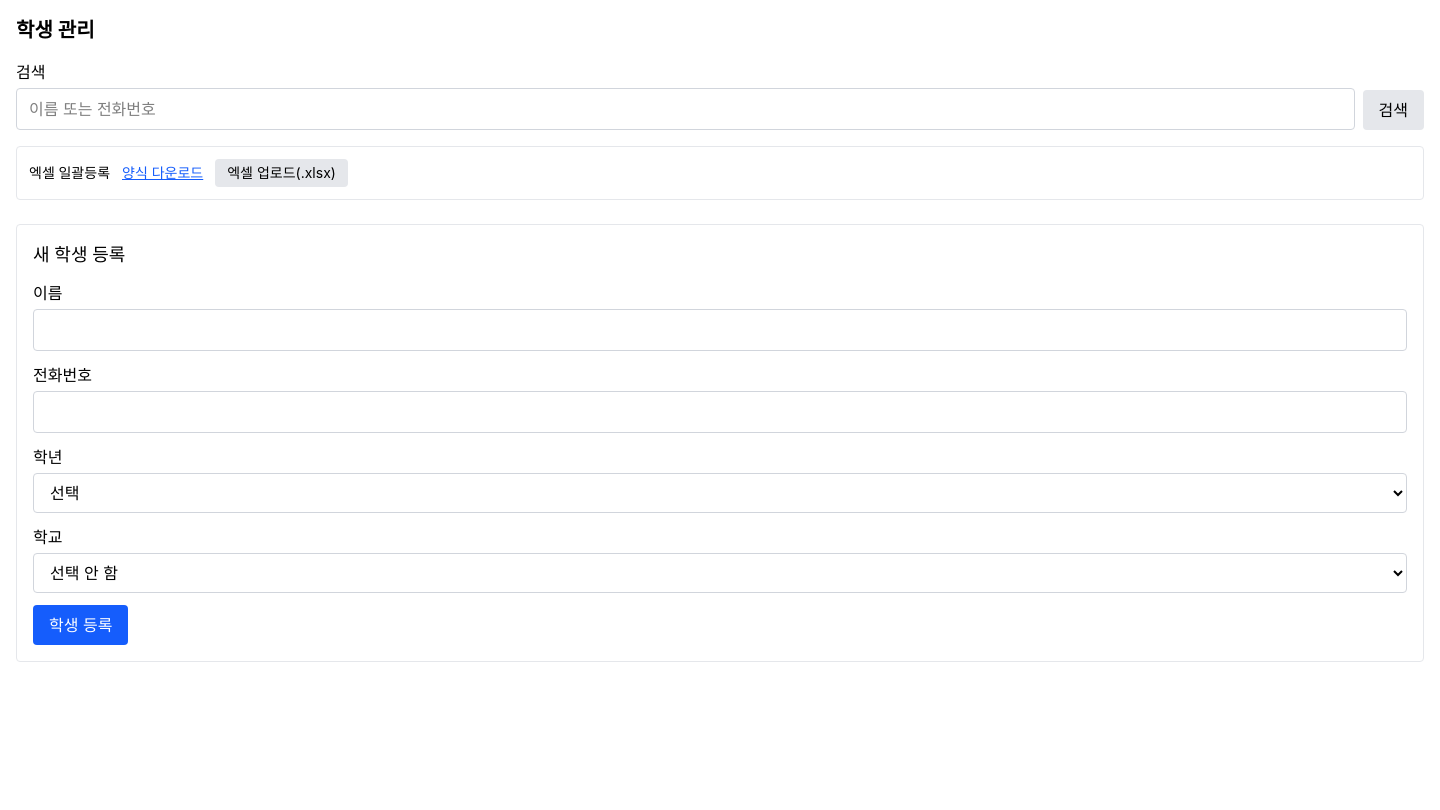
Test: StudentListPage › shows a duplicate warning and requires confirmation before creating
Type "중복학생" into the field labelled "이름" at x=720, y=330, box [33,309,1407,351]
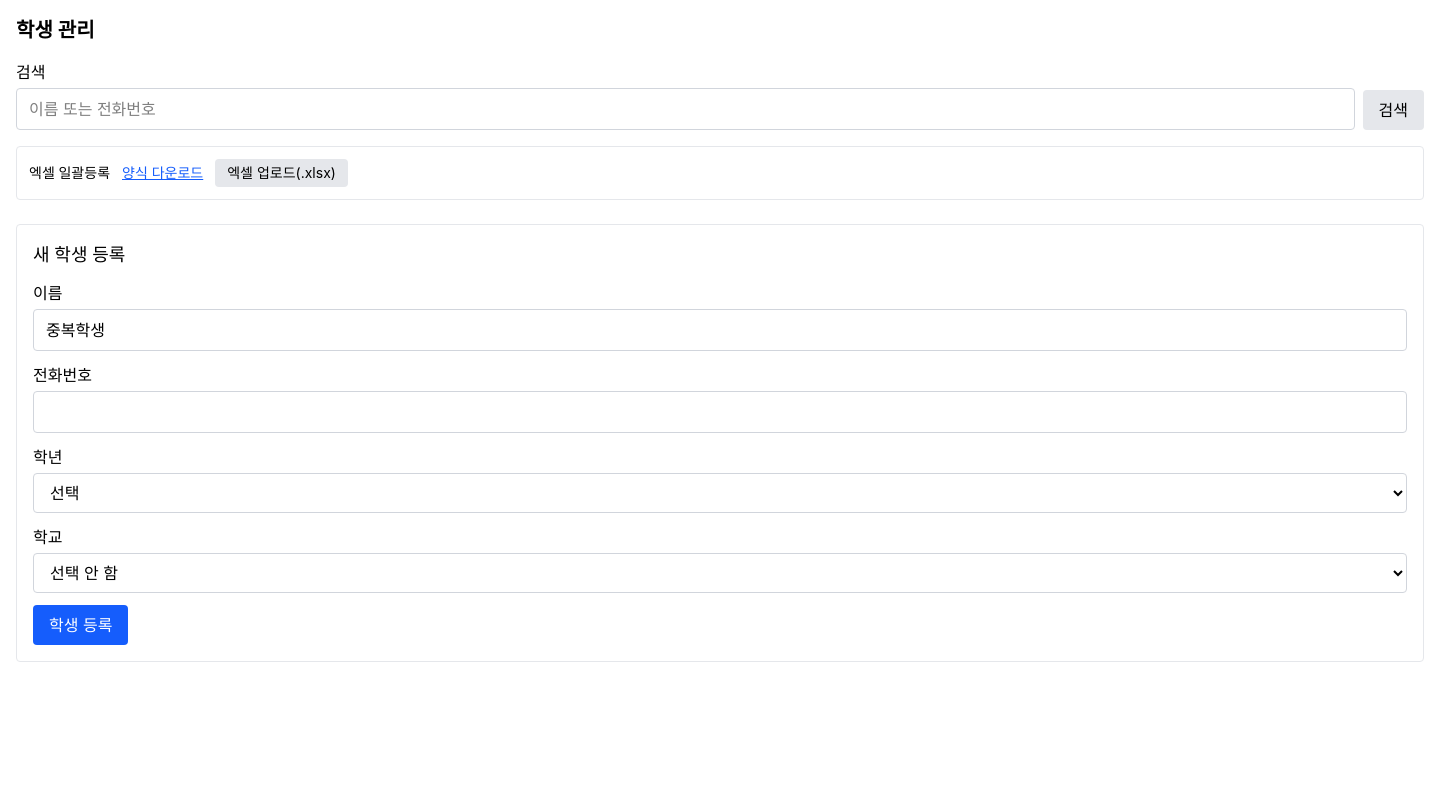
Type "010-9999-8888" into the field labelled "전화번호" at x=720, y=412, box [33,391,1407,433]
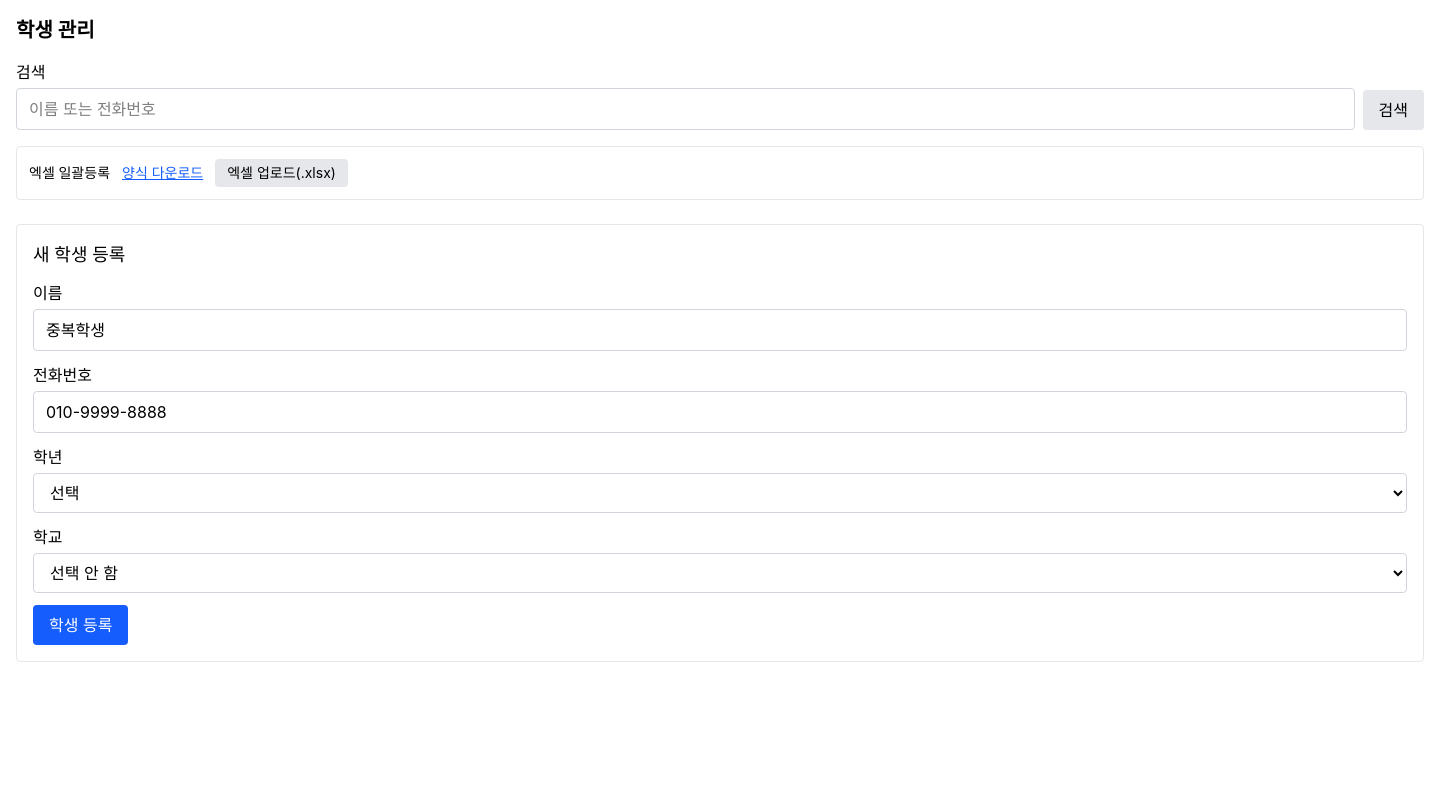
Select "초1" in the dropdown labelled "학년" at x=720, y=493, box [33,473,1407,513]
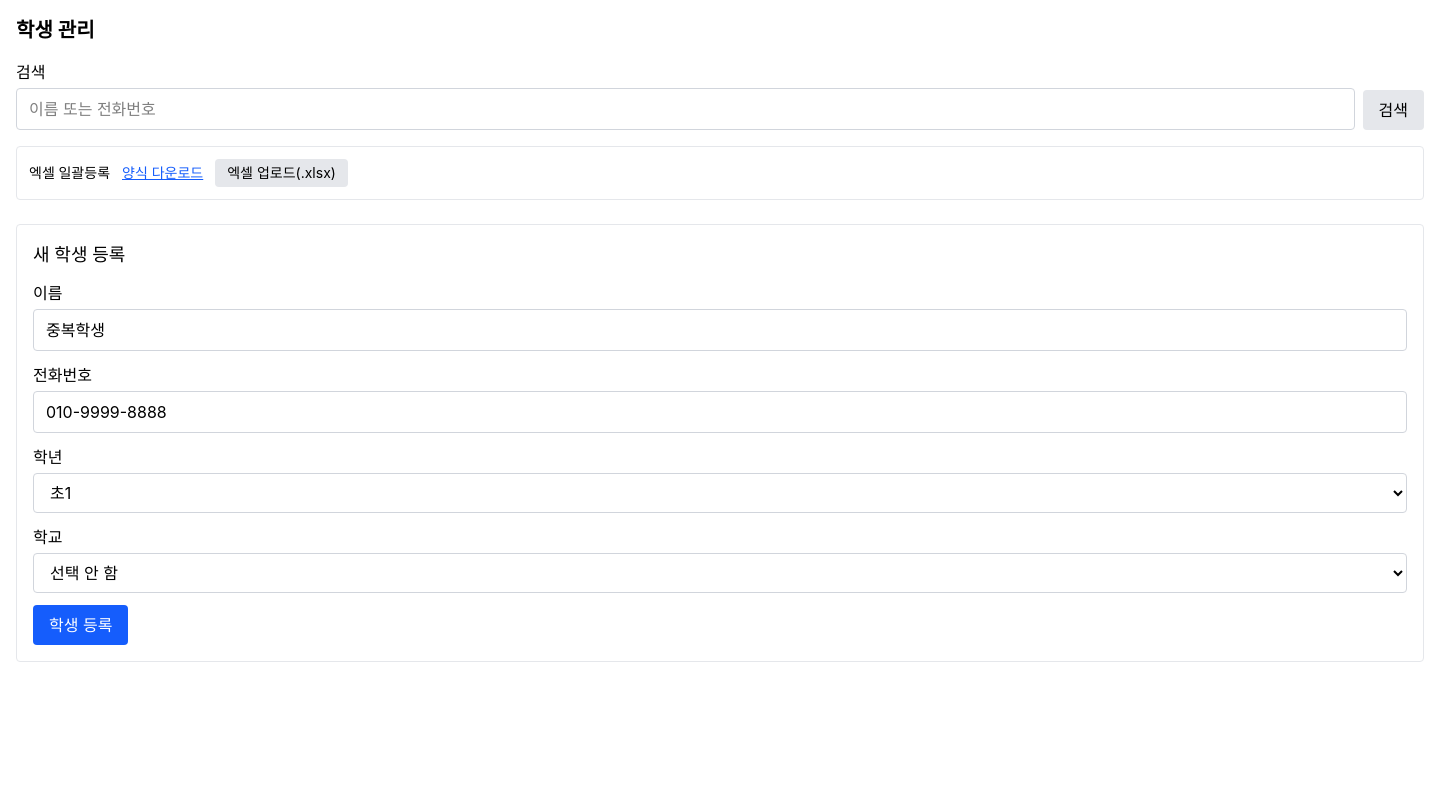
Click the button "학생 등록" at x=81, y=625, box [33,605,128,645]
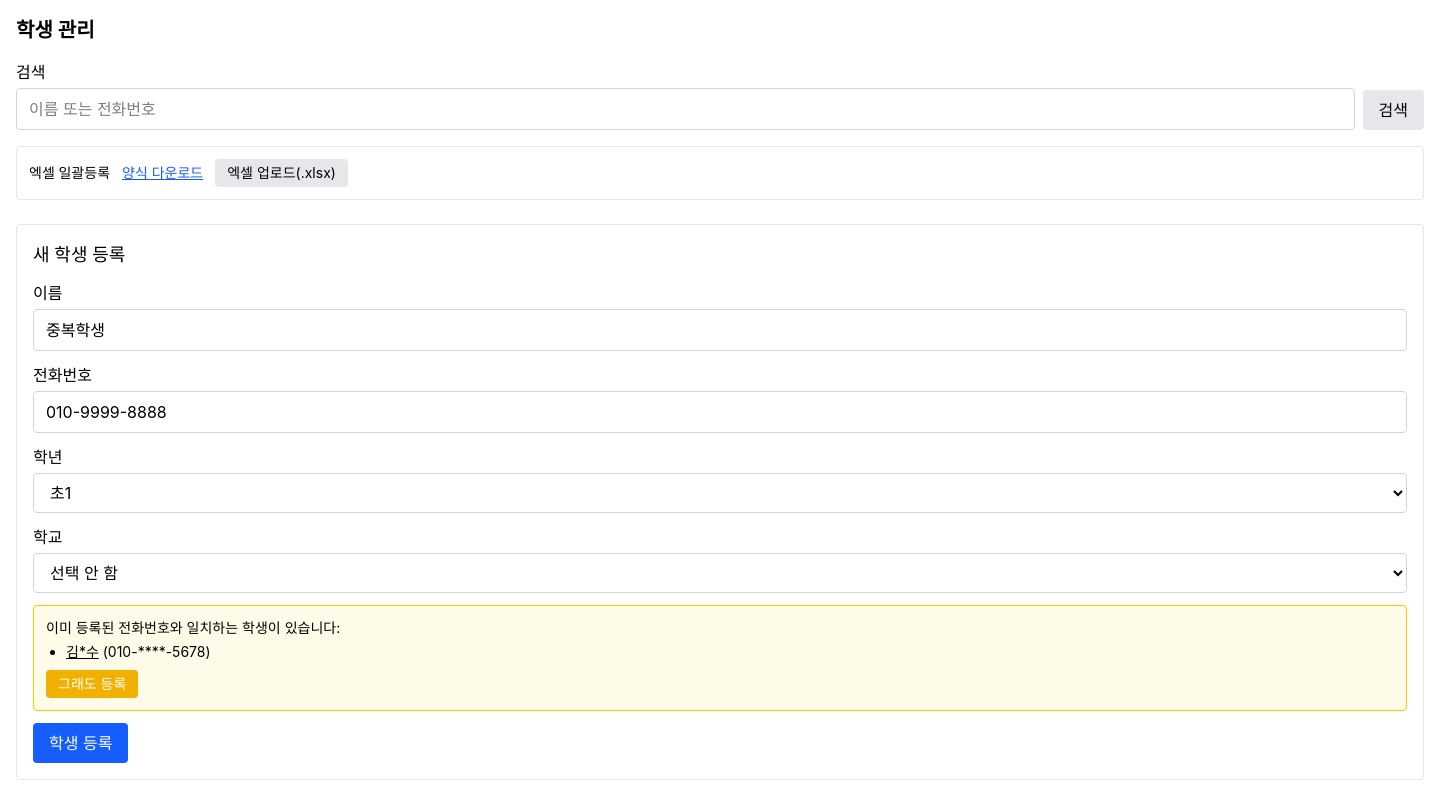
Expected: the text "이미 등록된 전화번호와 일치하는 학생이 있습니다:" is shown, [46,619,340,636]
Click the button "그래도 등록" at x=92, y=684, box [46,670,138,698]
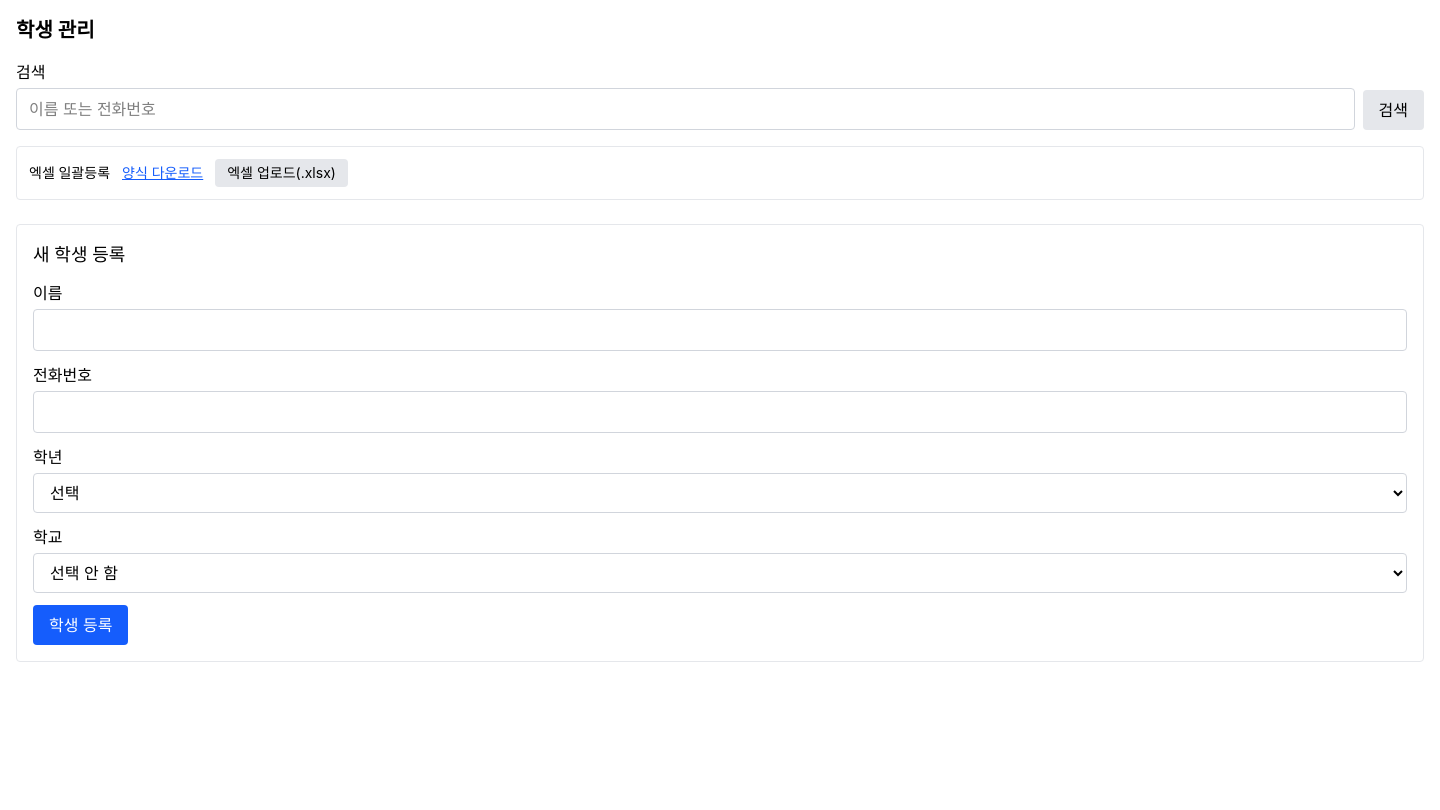
Expected: the text "이미 등록된 전화번호" is gone
